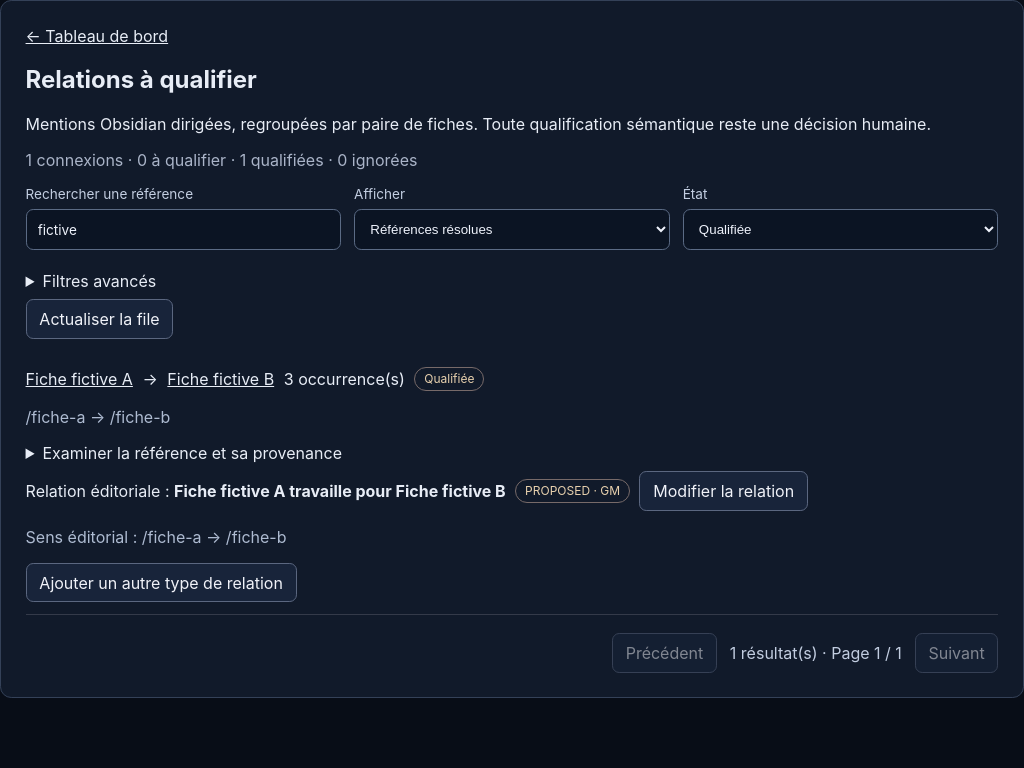
Test: correction depuis la file de qualification › expose les relations qualifiées sans ouvrir la provenance et ne charge la fiche qu’au clic
expect the text "Sens éditorial : /fiche-a → /fiche-b" is shown: met, box [26,527,287,547]
Click the button with aria-label "Modifier la relation :": (724, 491) [640,471,808,511]
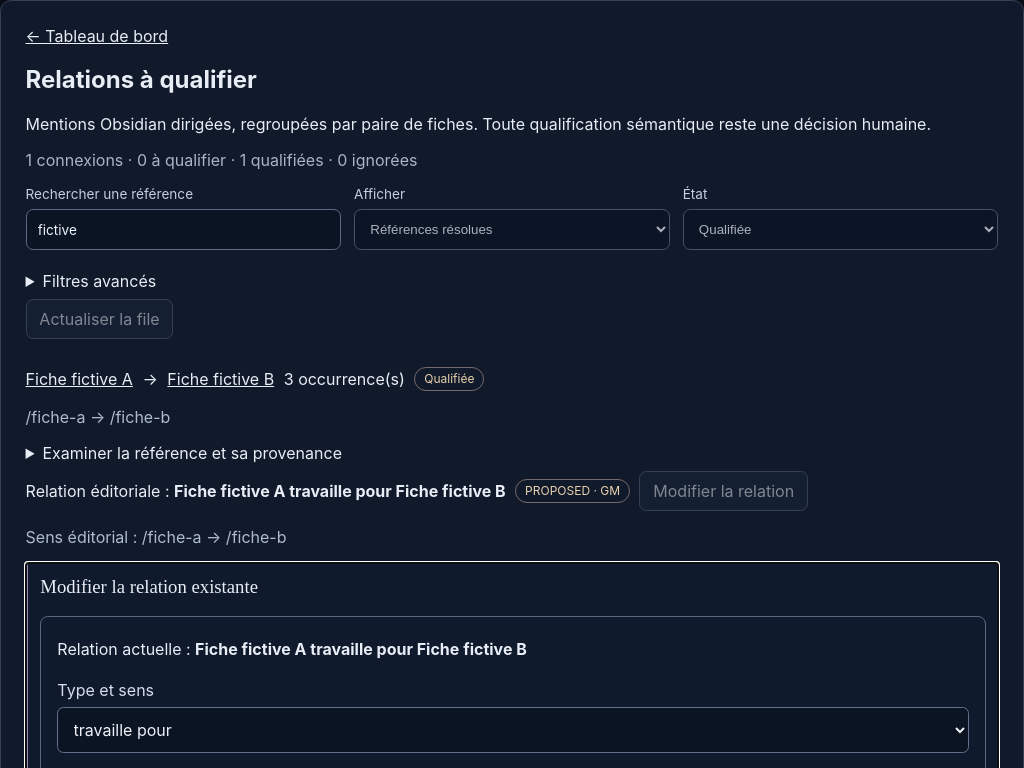
expect the dropdown labelled "Type et sens" is shown: met, box [57,707,969,753]
expect the button "Actualiser la file" is disabled: met, box [26,299,174,338]
expect the dropdown labelled "État" is disabled: met, box [683,209,998,250]
